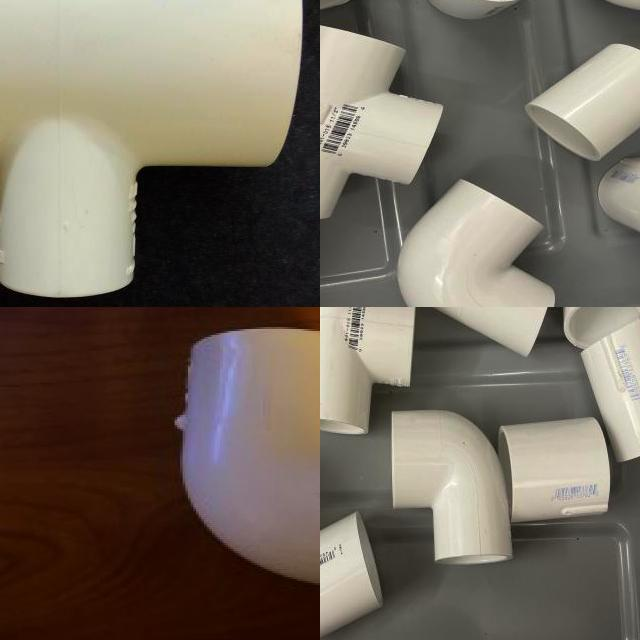L Joint: (175, 328, 320, 588), (395, 182, 558, 307), (390, 411, 513, 569)
T Joint: (320, 27, 445, 222), (320, 307, 416, 437)
